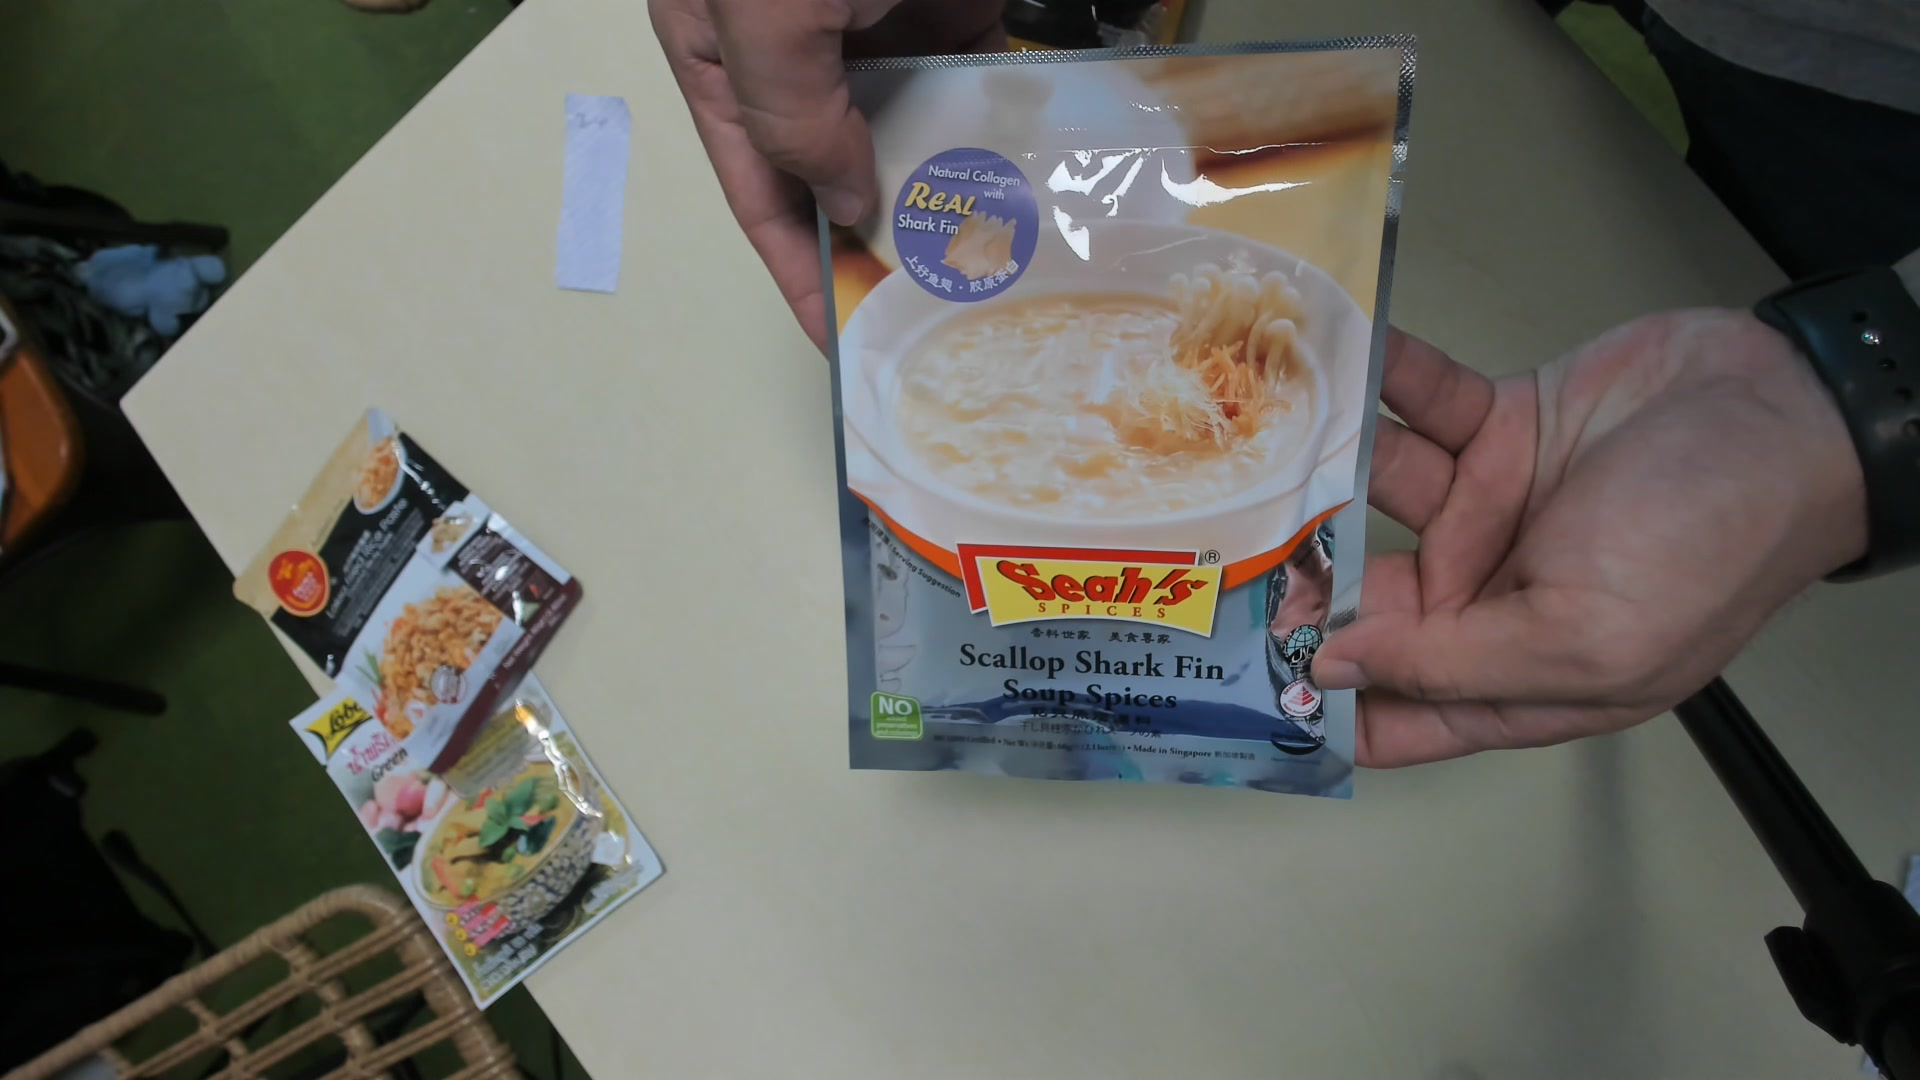OtherSauceDressing_0-99g_Halal_NonHealthy: (802, 50, 1367, 800)
